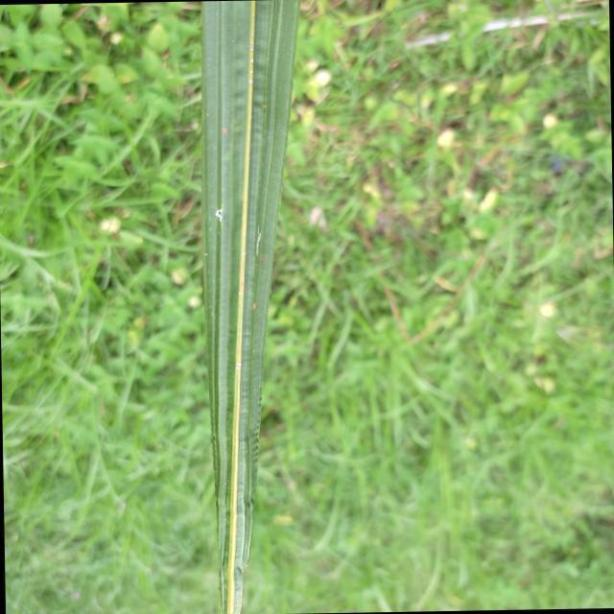Boron: (194, 0, 300, 614)
